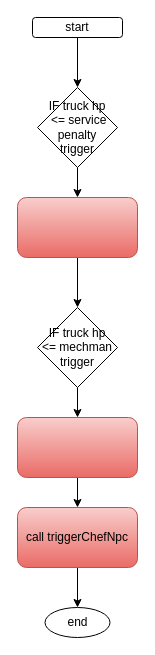
Some shapes in this 155 by 655 pixel diagram are drawn without their labels. The shapes that lost their labels are listed below. From the top down, each one's centre as x and y in pixels, then its label:
point 77,227: call setServiceTime Penalty
point 77,447: call triggerMechMan and set mech man trigger
